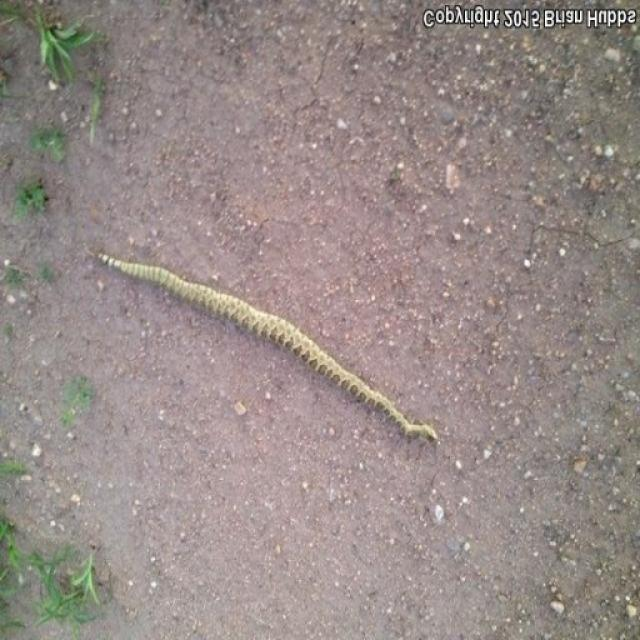snake: (94, 244, 454, 472)
